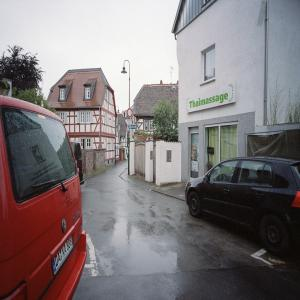Vehicle-registration-plate: (51, 237, 75, 278)
